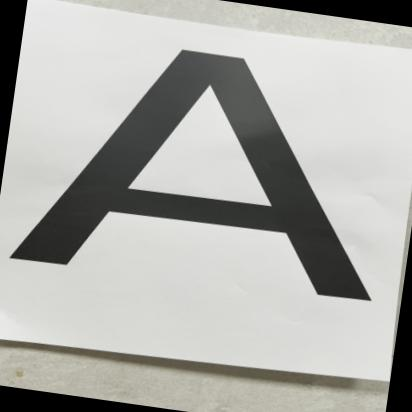seat: (0, 23, 412, 326)
